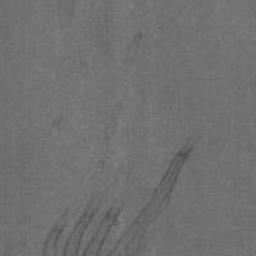Water spot: (62, 140, 193, 256), (42, 208, 69, 256), (123, 32, 143, 70), (98, 159, 105, 169)
